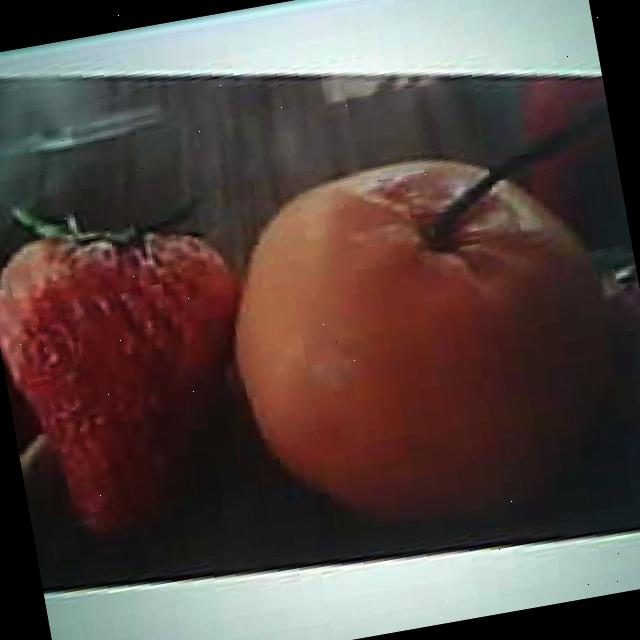strawberry: (0, 207, 270, 544)
